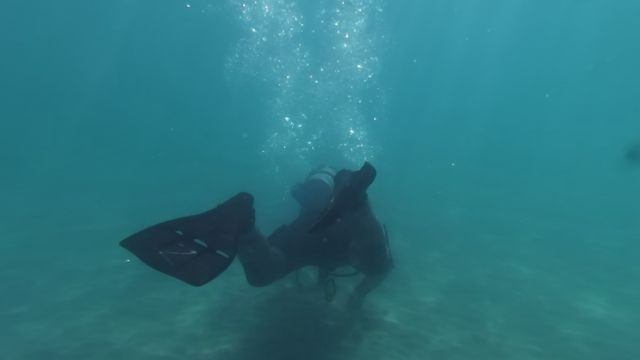Diver: (97, 143, 406, 326)
